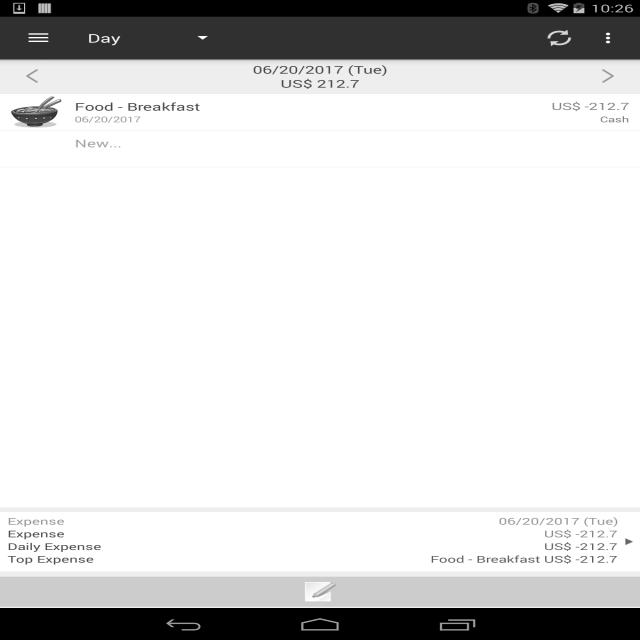ImageButton: (0, 576, 640, 606), (9, 17, 68, 59), (5, 59, 59, 93), (581, 59, 635, 93)
ImageView: (11, 96, 62, 128), (589, 22, 631, 54), (582, 69, 634, 83), (7, 69, 58, 83), (620, 534, 634, 549)
Spinner: (85, 28, 214, 48)
TextView: (62, 133, 629, 150), (62, 96, 551, 114), (62, 150, 629, 165), (62, 114, 600, 128), (65, 527, 620, 540), (101, 540, 620, 553), (65, 515, 620, 527), (213, 61, 427, 91), (94, 553, 620, 565), (529, 22, 589, 54), (88, 30, 194, 46), (552, 96, 630, 113), (5, 540, 101, 553), (5, 553, 94, 565), (5, 527, 64, 540), (5, 515, 64, 527), (600, 114, 629, 128)
